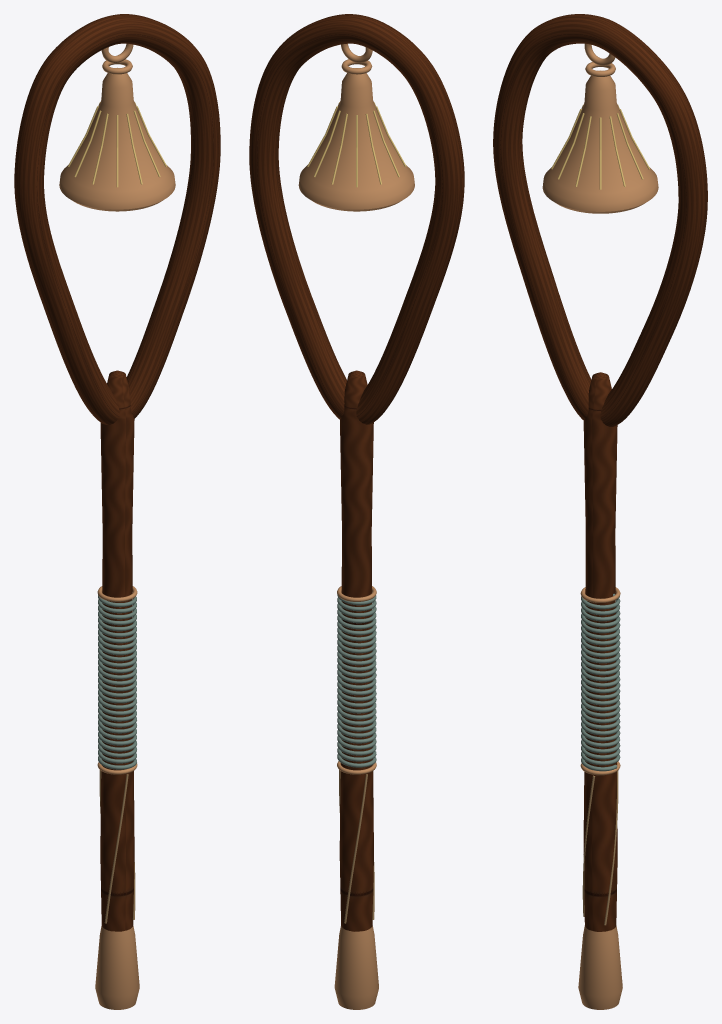
The model's file is bellroot-fen-floodward-marches-bellroot-channeling-sta-4e1fc7a1__32907.glb.
The picture shows the model from 3 angles, left to right: view 1: azimuth 30°, elevation 25°; view 2: azimuth 150°, elevation 25°; view 3: azimuth 330°, elevation 25°; orthographic projection.
Parts seen in each view (by area): view 1: bellroot-channeling-staff_0, bellroot-channeling-staff_1, bellroot-channeling-staff_2, bellroot-channeling-staff_5, bellroot-channeling-staff_3; view 2: bellroot-channeling-staff_0, bellroot-channeling-staff_1, bellroot-channeling-staff_2, bellroot-channeling-staff_5, bellroot-channeling-staff_3; view 3: bellroot-channeling-staff_0, bellroot-channeling-staff_1, bellroot-channeling-staff_2, bellroot-channeling-staff_5, bellroot-channeling-staff_3.
Boxes of the visible parts, <box> form: bellroot-channeling-staff_0: <box>14,14,220,931</box>; bellroot-channeling-staff_1: <box>59,43,175,1009</box>; bellroot-channeling-staff_2: <box>98,594,136,769</box>; bellroot-channeling-staff_5: <box>68,102,166,187</box>; bellroot-channeling-staff_3: <box>99,770,135,923</box>; bellroot-channeling-staff_0: <box>249,14,464,931</box>; bellroot-channeling-staff_1: <box>298,43,414,1009</box>; bellroot-channeling-staff_2: <box>337,592,376,767</box>; bellroot-channeling-staff_5: <box>307,102,406,187</box>; bellroot-channeling-staff_3: <box>339,770,374,923</box>; bellroot-channeling-staff_0: <box>493,14,707,931</box>; bellroot-channeling-staff_1: <box>542,43,658,1009</box>; bellroot-channeling-staff_2: <box>581,593,620,771</box>; bellroot-channeling-staff_5: <box>551,104,649,189</box>; bellroot-channeling-staff_3: <box>582,771,618,925</box>.
Size of the model in its own units: 0.5143 by 2.34 by 0.25.
6 materials, 1 textured.
